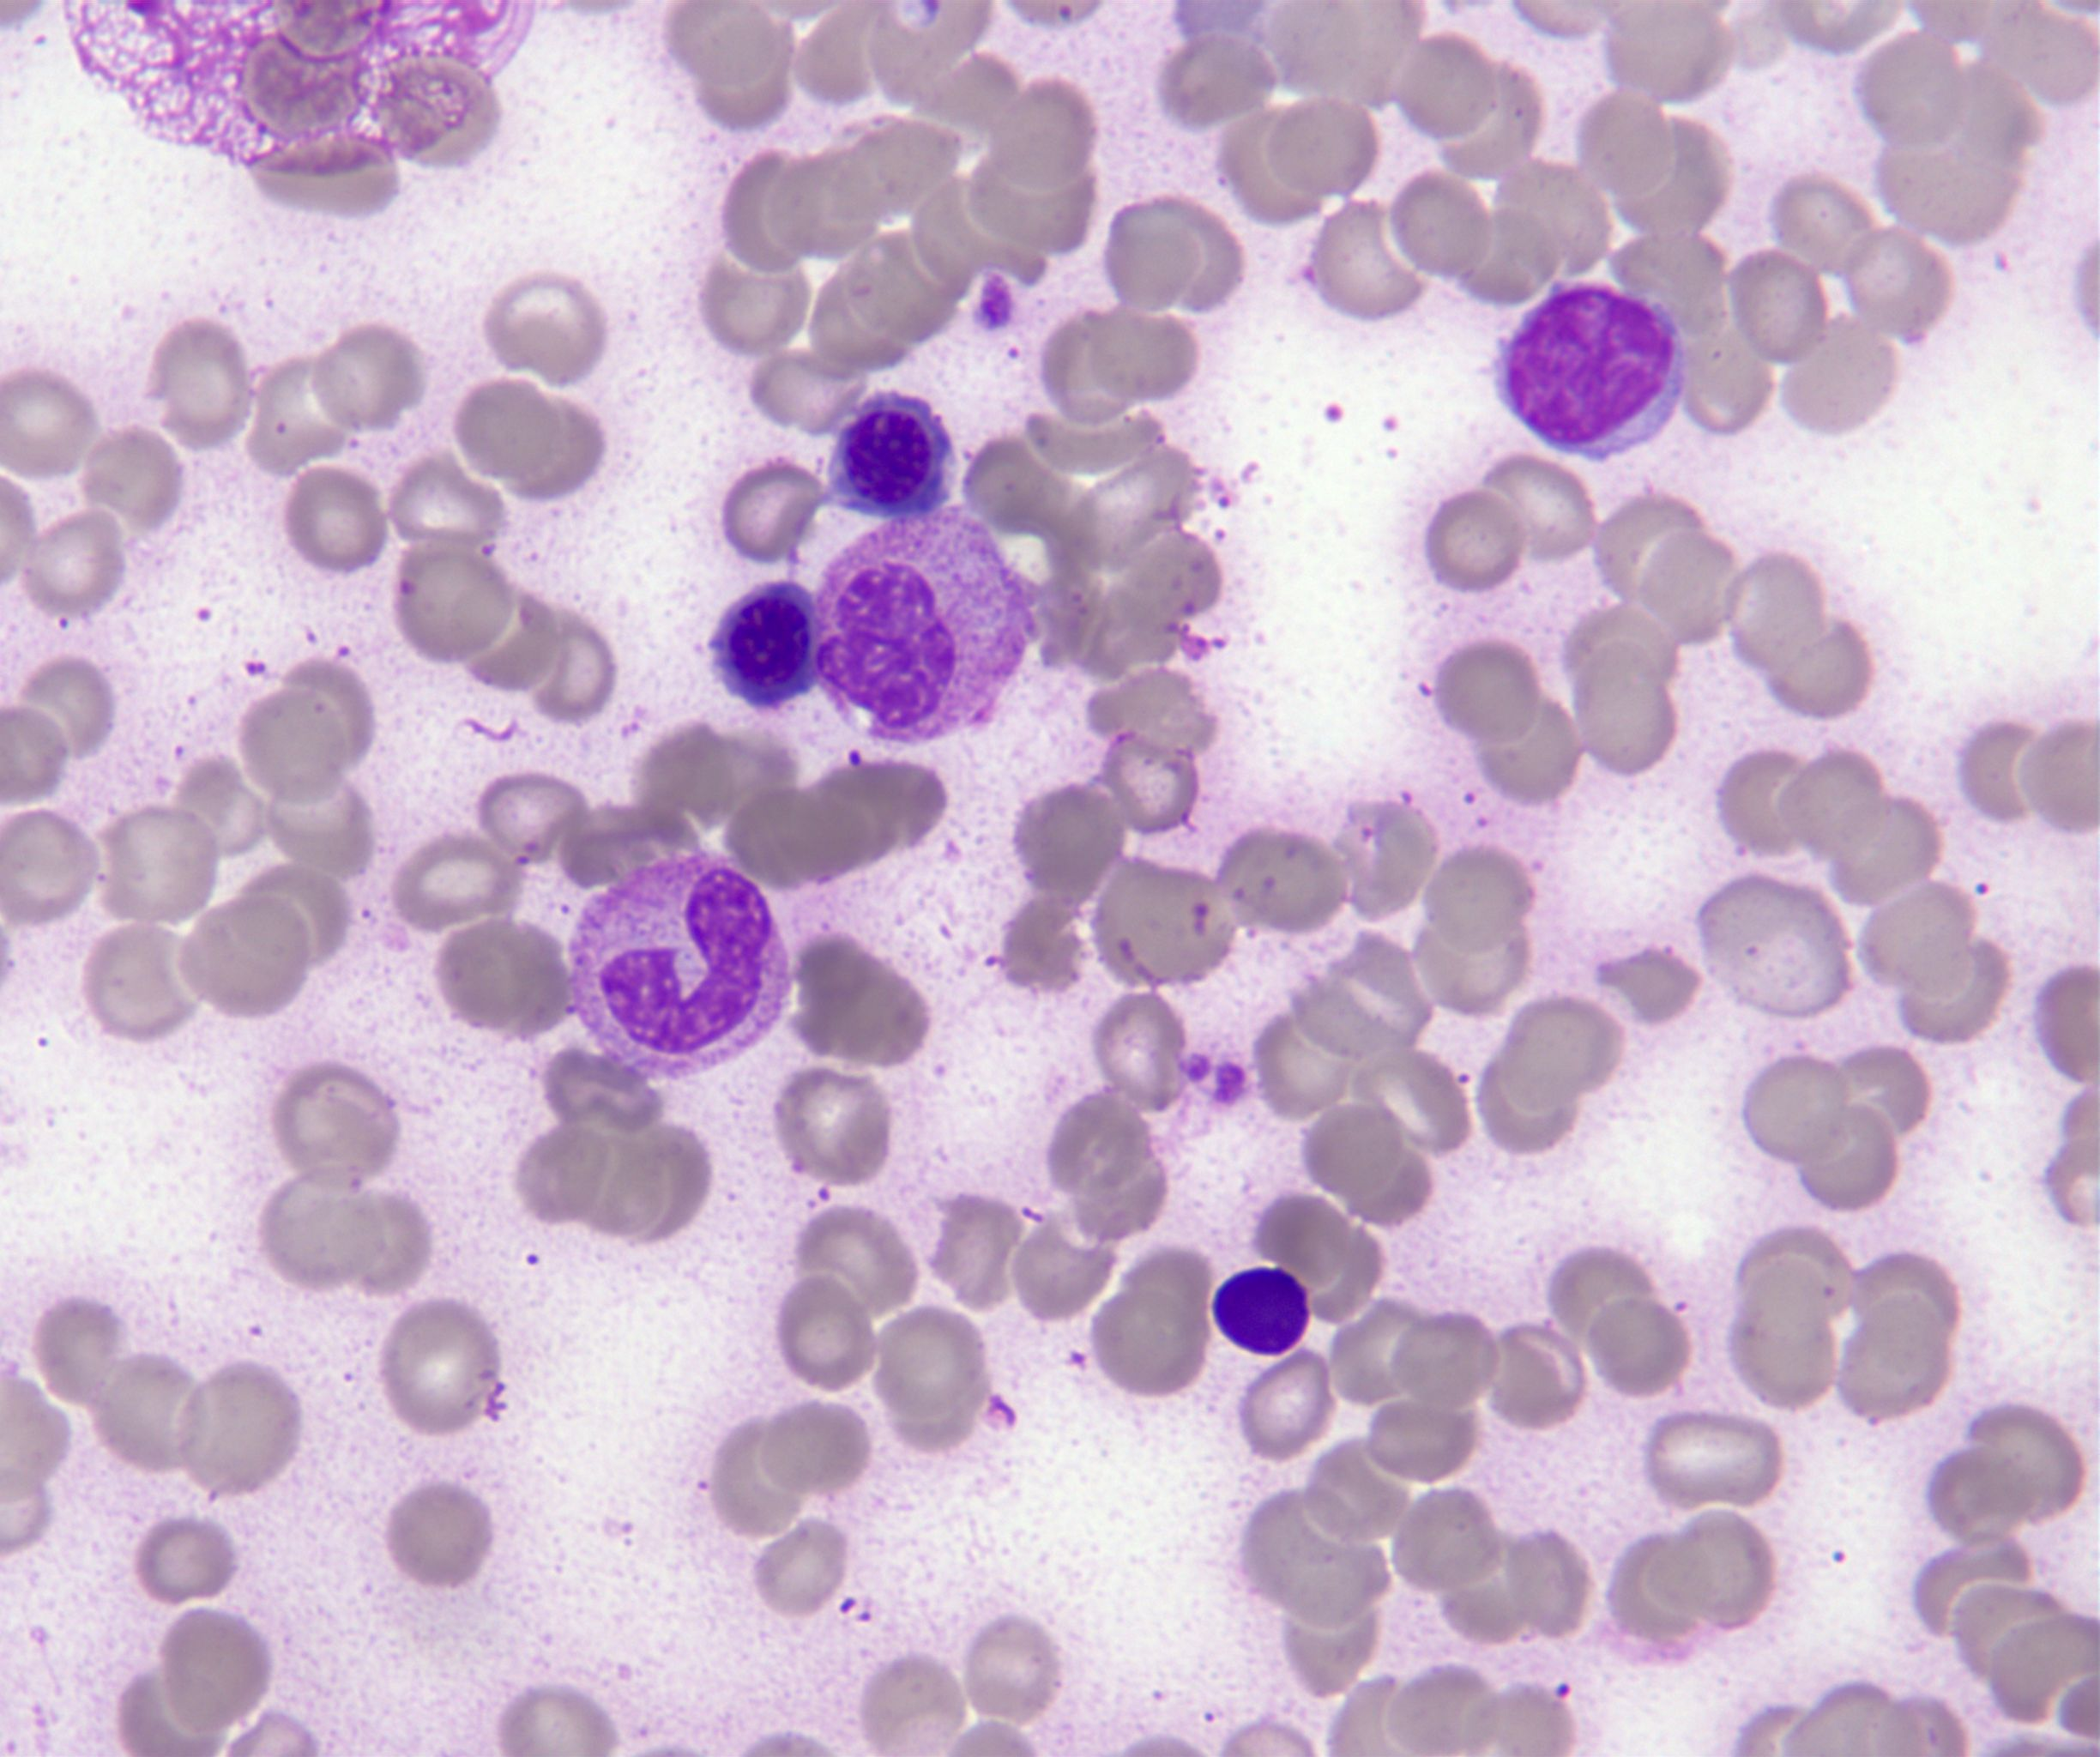23: (825, 391, 956, 520), (710, 579, 822, 708)
32: (1497, 284, 1685, 461)
5: (570, 855, 788, 1078)
6: (811, 513, 1034, 747)
x: (1212, 1270, 1310, 1354)
